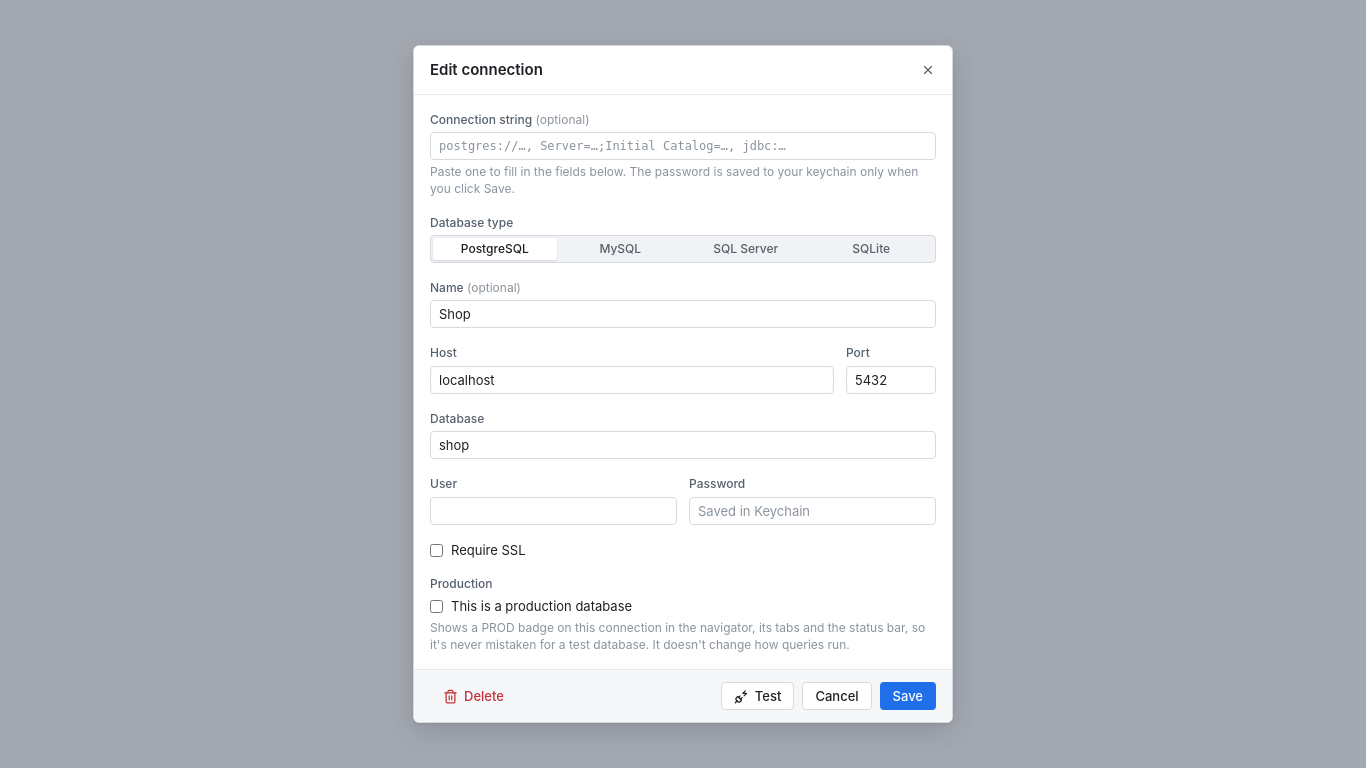
Test: ConnectionDialog delete › shows the error and keeps the dialog open when the delete fails
The width and height of the screenshot is (1366, 768).
Click the button "Delete". click: {"x": 473, "y": 696}
box: [430,682,517,710]
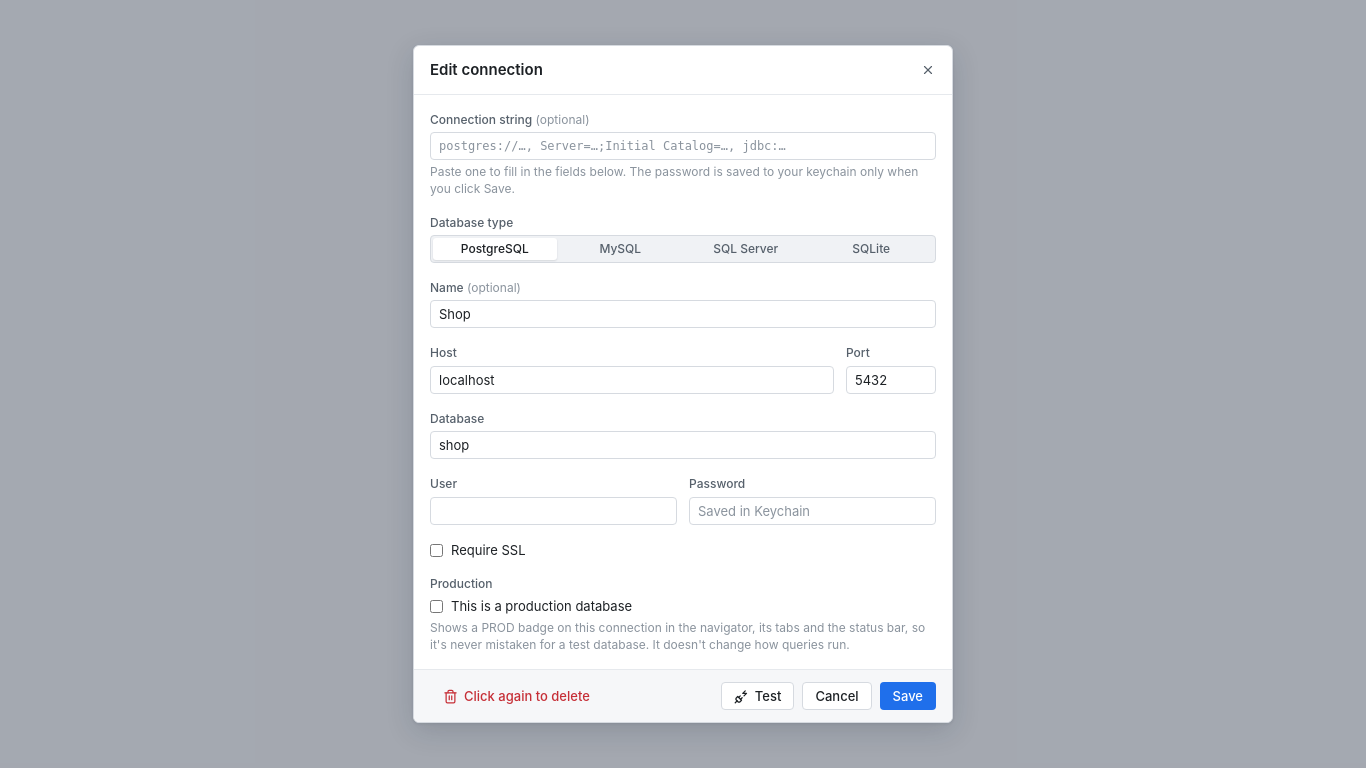
Click the button "Click again to delete". click: {"x": 516, "y": 696}
box: [430,682,603,710]
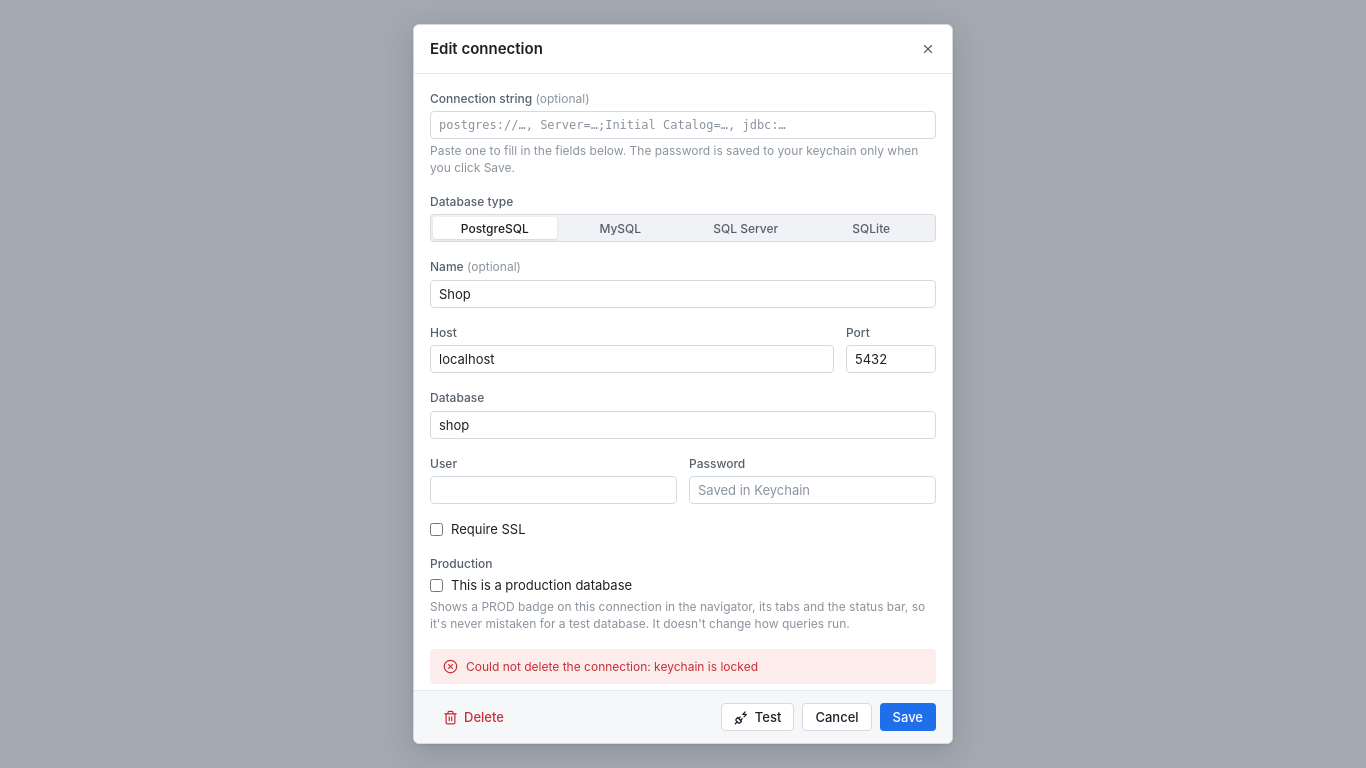
Expected: the message reads "Could not delete the connection: keychain is locked", [466,659,758,674]
Expected: the button "Delete" is shown, [430,703,517,731]
